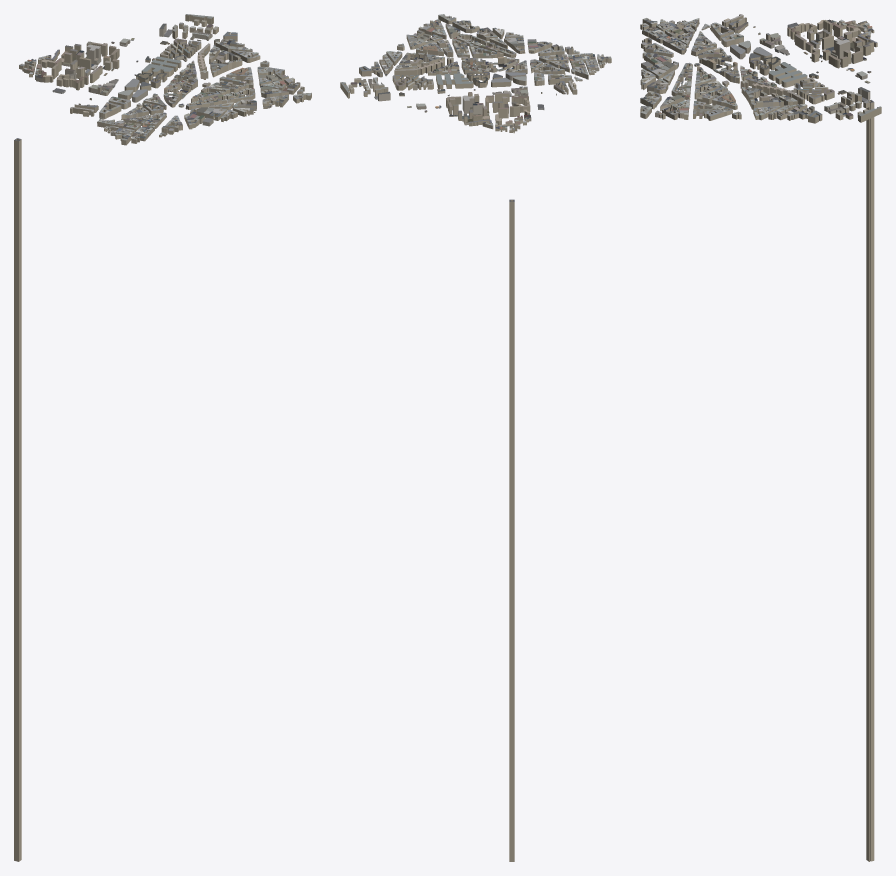
3 renders of one model, left to right at view 1: azimuth 30°, elevation 25°; view 2: azimuth 150°, elevation 25°; view 3: azimuth 270°, elevation 25°, orthographic. The views are drawn at different scales.
Visible parts, largest first — view 1: tuile; view 2: tuile; view 3: tuile.
Boxes of the visible parts, box(x1,y1,x2,y2) form: tuile: box(14, 14, 311, 861); tuile: box(340, 14, 611, 861); tuile: box(640, 14, 881, 861).
Size of the model in its own units: 1082 by 4117 by 1060.
